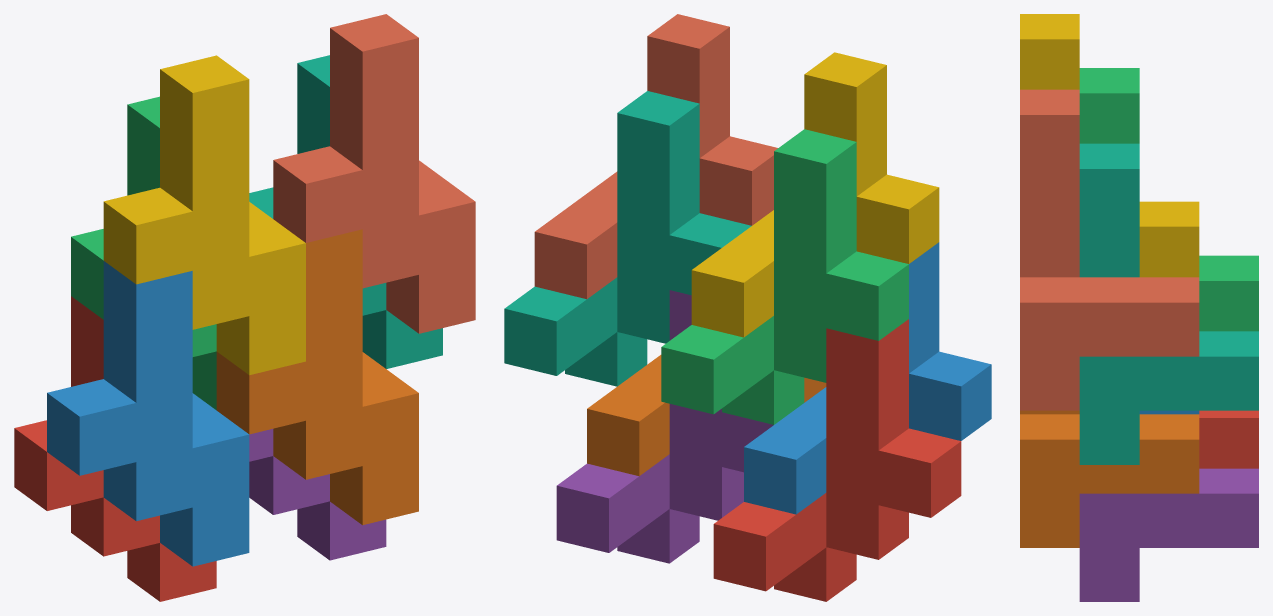
File: tiling.obj
3 renders of one model, left to right at view 1: azimuth 30°, elevation 25°; view 2: azimuth 150°, elevation 25°; view 3: azimuth 270°, elevation 25°, orthographic. The views are drawn at different scales.
Visible parts, largest first — view 1: copy_1_domain_4, copy_1_domain_8, copy_1_domain_2, copy_1_domain_6, copy_1_domain_1, copy_1_domain_7, copy_1_domain_5, copy_1_domain_3; view 2: copy_1_domain_3, copy_1_domain_1, copy_1_domain_7, copy_1_domain_4, copy_1_domain_8, copy_1_domain_5, copy_1_domain_2, copy_1_domain_6; view 3: copy_1_domain_8, copy_1_domain_7, copy_1_domain_6, copy_1_domain_5, copy_1_domain_3, copy_1_domain_4, copy_1_domain_1.
Boxes of the visible parts, <box> form: copy_1_domain_4: <box>103,55,305,375</box>; copy_1_domain_8: <box>273,14,475,333</box>; copy_1_domain_2: <box>47,261,249,566</box>; copy_1_domain_6: <box>216,229,418,525</box>; copy_1_domain_1: <box>14,296,216,601</box>; copy_1_domain_7: <box>249,55,442,368</box>; copy_1_domain_5: <box>249,429,386,560</box>; copy_1_domain_3: <box>71,96,216,410</box>; copy_1_domain_3: <box>661,129,908,424</box>; copy_1_domain_1: <box>713,319,961,601</box>; copy_1_domain_7: <box>504,91,751,386</box>; copy_1_domain_4: <box>691,52,939,337</box>; copy_1_domain_8: <box>534,14,777,299</box>; copy_1_domain_5: <box>556,290,773,563</box>; copy_1_domain_2: <box>744,242,991,514</box>; copy_1_domain_6: <box>587,355,826,476</box>; copy_1_domain_8: <box>1020,89,1199,410</box>; copy_1_domain_7: <box>1079,143,1258,464</box>; copy_1_domain_6: <box>1020,410,1199,547</box>; copy_1_domain_5: <box>1079,468,1258,601</box>; copy_1_domain_3: <box>1079,68,1258,331</box>; copy_1_domain_4: <box>1020,14,1199,277</box>; copy_1_domain_1: <box>1199,410,1258,468</box>.
Bounding box in the file's own units: 7 × 9 × 4.
